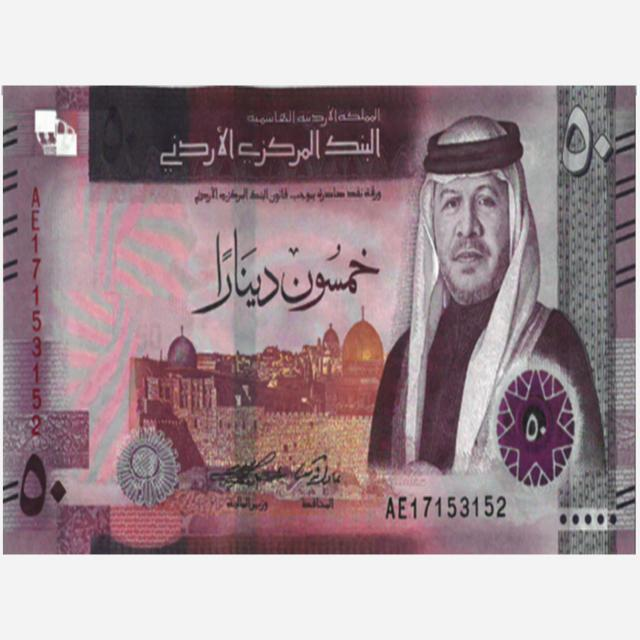50-dinar: (0, 81, 637, 555)
